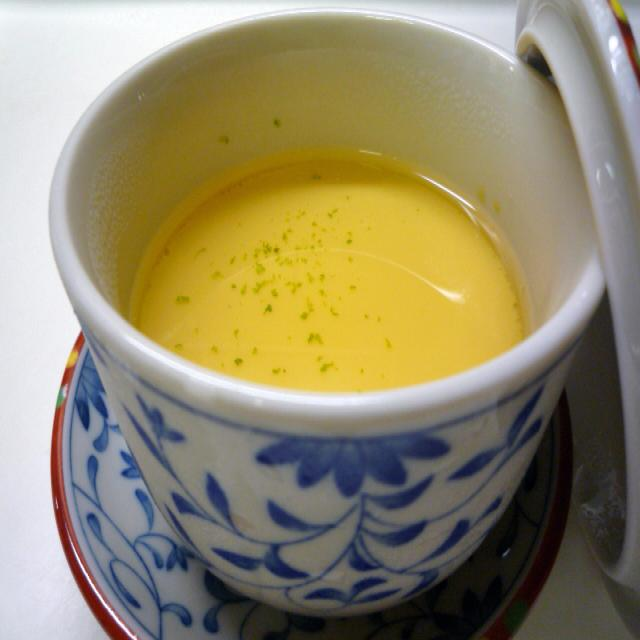鸡蛋料理: (66, 0, 597, 640)
